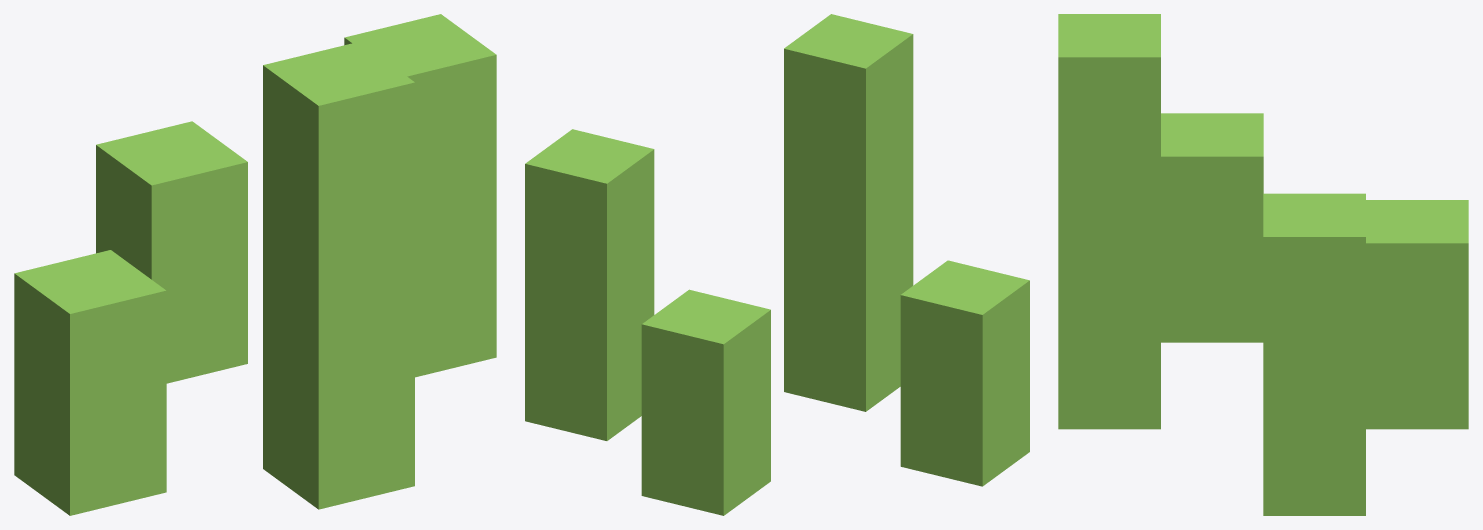
File: deco_grass_tiny.glb
3 views of the same model, side by side, from view 1: azimuth 30°, elevation 25°; view 2: azimuth 150°, elevation 25°; view 3: azimuth 270°, elevation 25° (orthographic). The views are drawn at different scales.
Parts seen in each view (by area): view 1: model_0; view 2: model_0; view 3: model_0.
Boxes of the visible parts, box(x1,y1,x2,y2) form: model_0: box(14, 14, 496, 515); model_0: box(525, 14, 1029, 515); model_0: box(1058, 14, 1468, 515).
Size of the model in its own units: 0.2 by 0.16 by 0.16.
